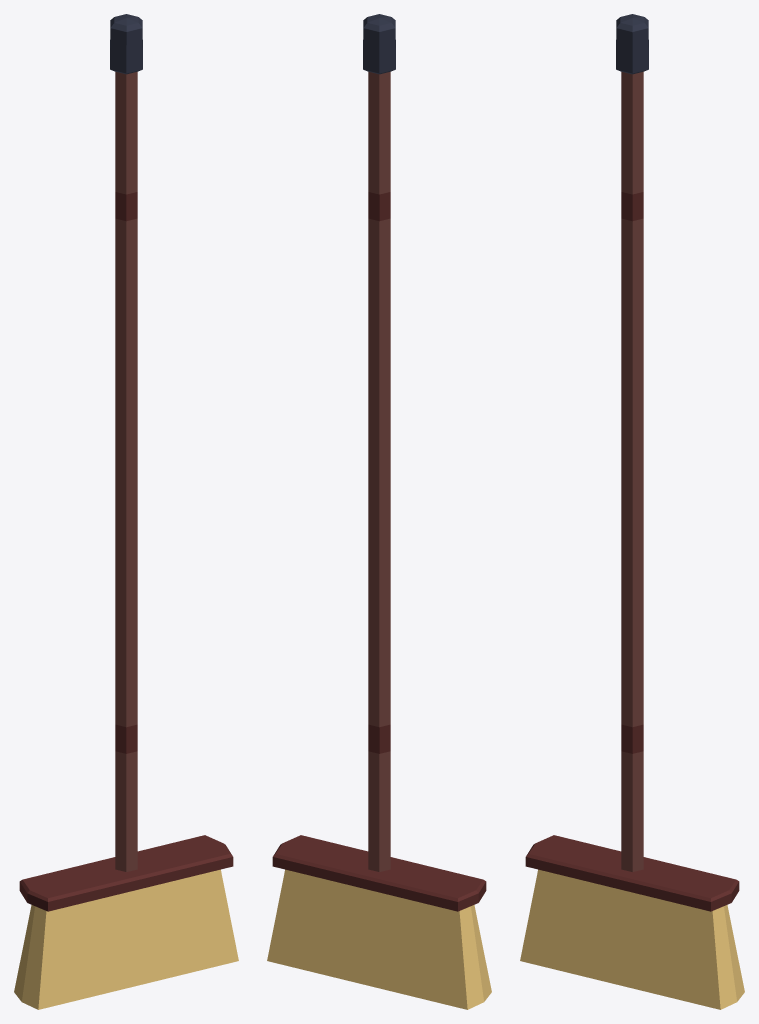
File: broom.fbx
3 renders of one model, left to right at view 1: azimuth 30°, elevation 25°; view 2: azimuth 150°, elevation 25°; view 3: azimuth 330°, elevation 25°, orthographic.
Parts seen in each view (by area): view 1: broom; view 2: broom; view 3: broom.
Boxes of the visible parts, x1=… form: broom: x1=14, y1=14, x2=238, y2=1009; broom: x1=267, y1=14, x2=491, y2=1009; broom: x1=520, y1=14, x2=744, y2=1009.
Bounding box in the file's own units: 119 × 519 × 27.8.
